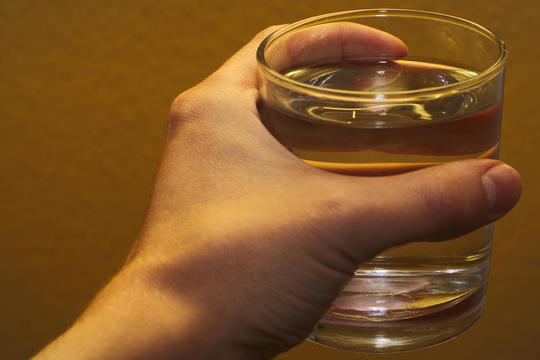glass of water: (312, 51, 471, 326)
